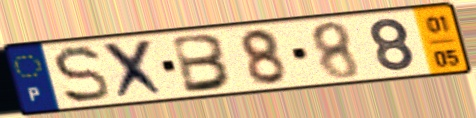8: (308, 19, 363, 81), (241, 26, 290, 87), (368, 16, 418, 73)
B: (170, 32, 236, 96)
S: (50, 43, 114, 106)
X: (99, 36, 171, 102)
